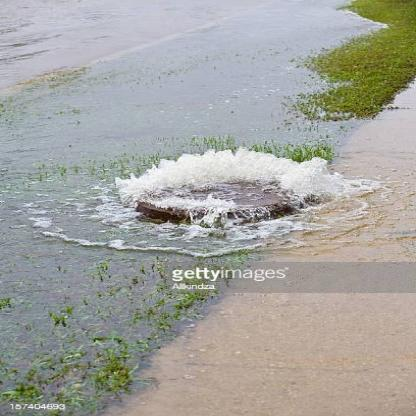drainage overflow-repair-: (27, 140, 360, 252)
